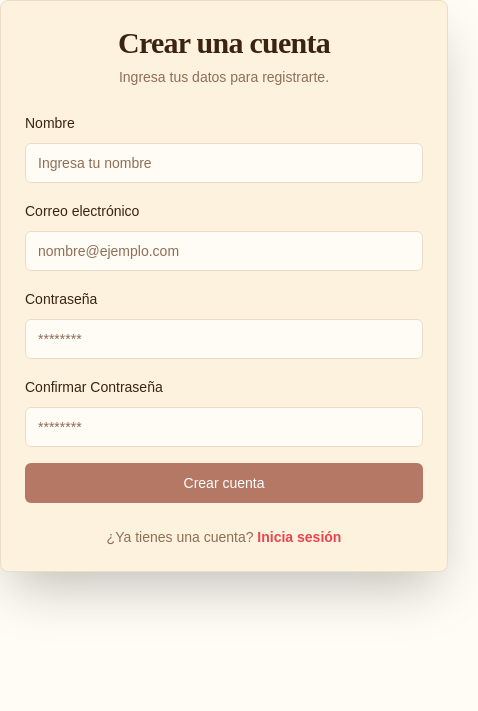
Test: RegisterForm › should show validation error for password mismatch
In the password field labelled "Contraseña": (224, 339) [25,319,423,359], type "password123"
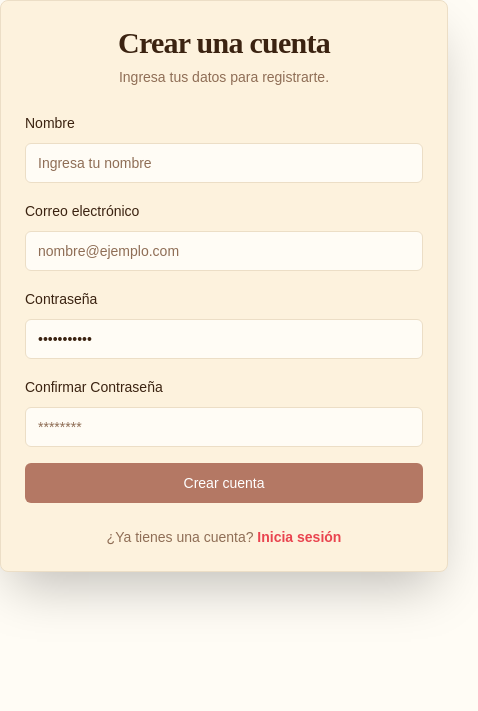
In the password field labelled "Confirmar Contraseña": (224, 427) [25,407,423,447], type "password456"
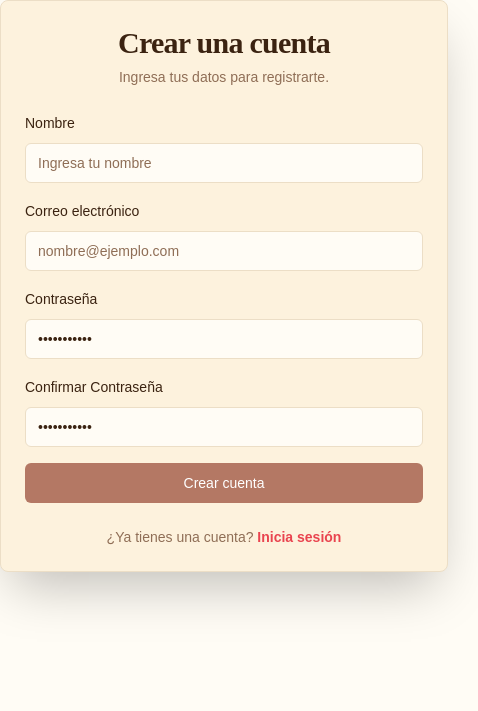
Click the button "Crear cuenta": (224, 483) [25,463,423,503]
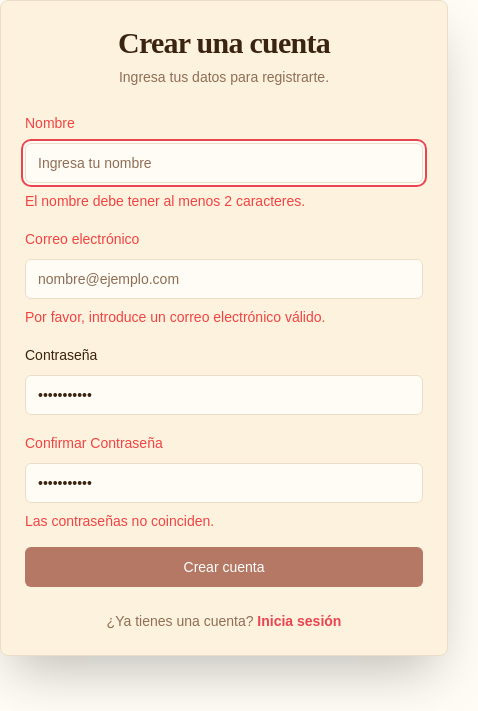
Result: the text "Las contraseñas no coinciden." is shown at [25,513,214,529]
